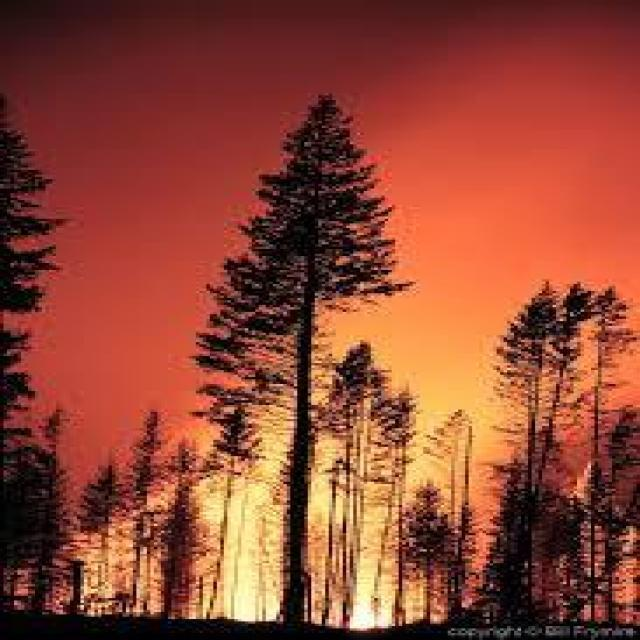Fire: (174, 406, 432, 636)
Smoke: (392, 0, 636, 275)
